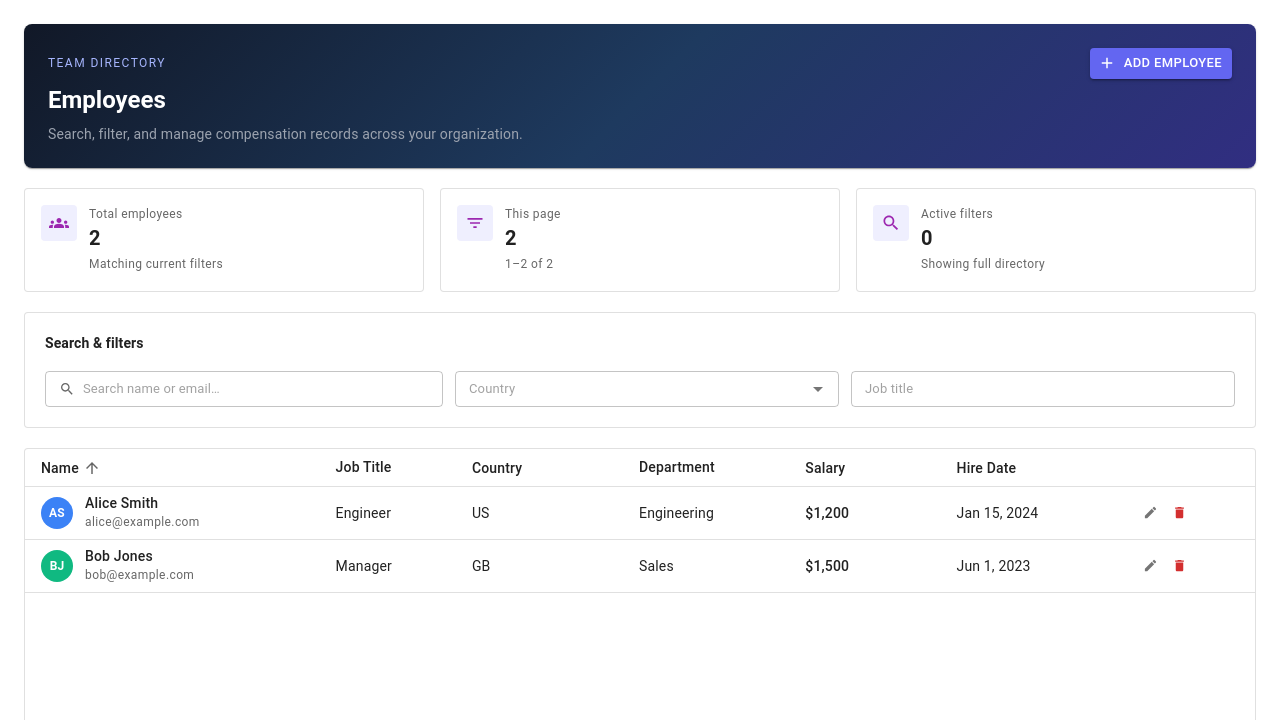
Test: EmployeesPage › filters by country when a country is selected
The width and height of the screenshot is (1280, 720).
Expected: the link "Alice Smith" is shown, [85, 495, 158, 511]
In the dropdown named "country filter": [630, 389] box [461, 377, 800, 400], type "United States"
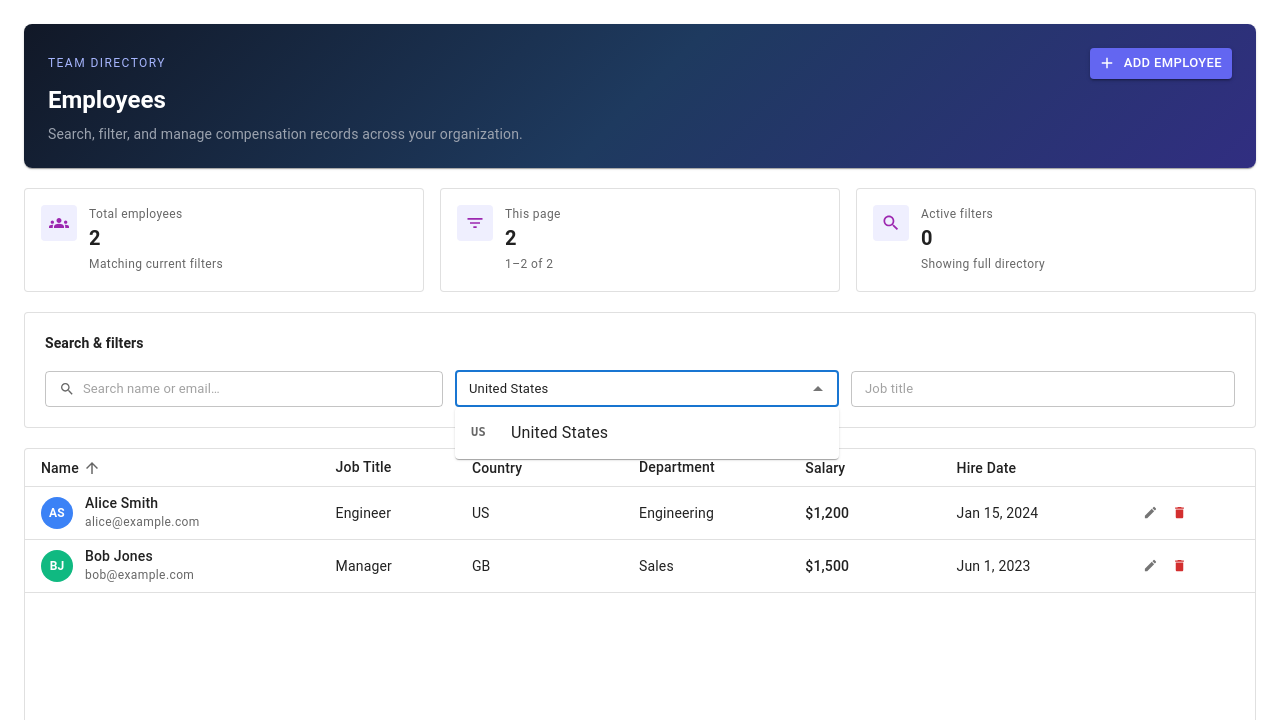
Click the option "US United States": [540, 432] box [471, 423, 608, 442]
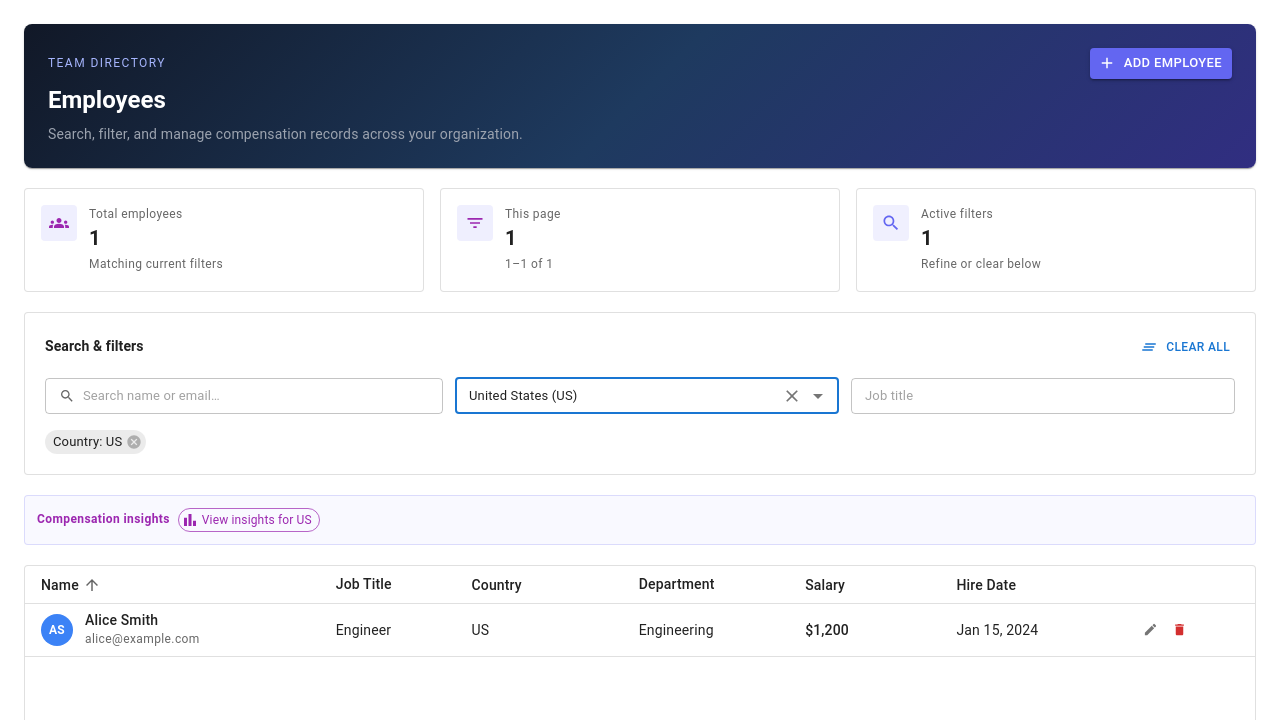
Expected: the link "Alice Smith" is shown, [85, 612, 158, 628]
Expected: the link "Bob Jones" is gone
